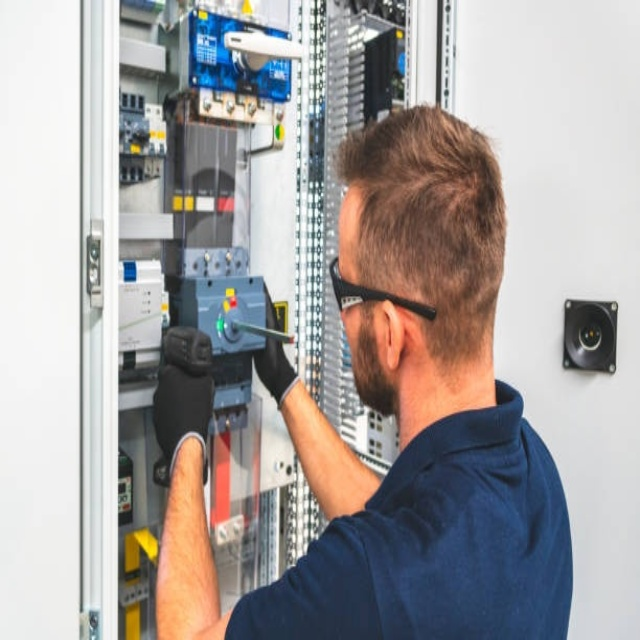Gafas: (328, 256, 438, 323)
Guantes: (152, 326, 216, 487), (249, 283, 298, 409)
